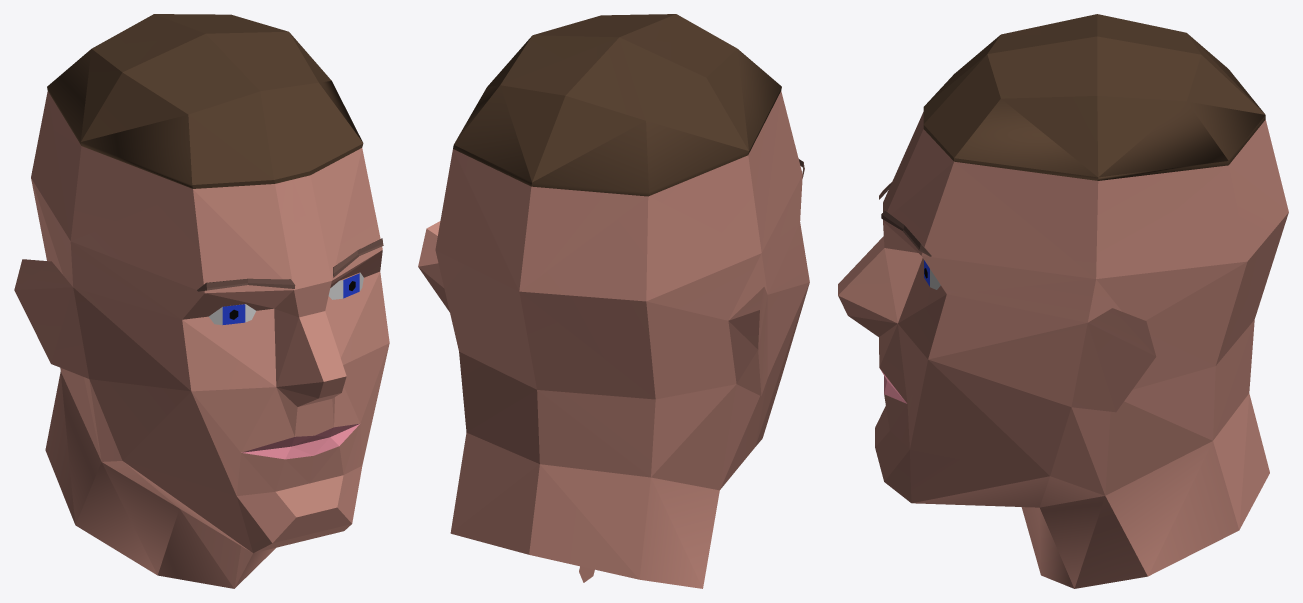
The model's file is finished-head.glb.
3 views of the same model, side by side, from view 1: azimuth 30°, elevation 25°; view 2: azimuth 150°, elevation 25°; view 3: azimuth 270°, elevation 25° (orthographic). The views are drawn at different scales.
Parts seen in each view (by area): view 1: head_mesh, Plane.001; view 2: head_mesh; view 3: head_mesh.
Boxes of the visible parts, left/top/right/bottom form: head_mesh: left=14, top=14, right=389, bottom=588; Plane.001: left=197, top=278, right=295, bottom=291; head_mesh: left=418, top=14, right=809, bottom=588; head_mesh: left=838, top=14, right=1288, bottom=588.
Size of the model in its own units: 145 by 228 by 173.
Materials: 7 (1 with a texture image).
